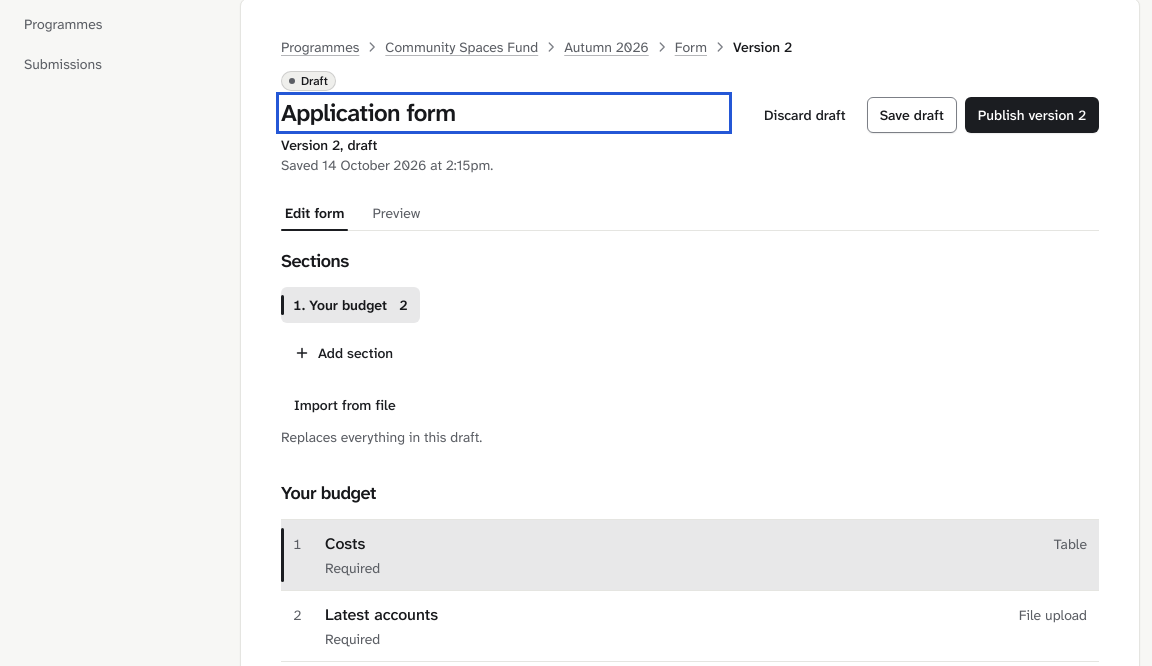
Test: the preview of a table and a file question › shows the table as applicants fill it in, with the fewest rows to start, its own name for a row and a total
Expected: the heading "Application form" is shown, [281,97,455,129]
Expected: the text "Version 2, draft" is shown, [281,136,377,154]
Click the tab "Preview".
click(396, 213)  # box [368,195,424,231]
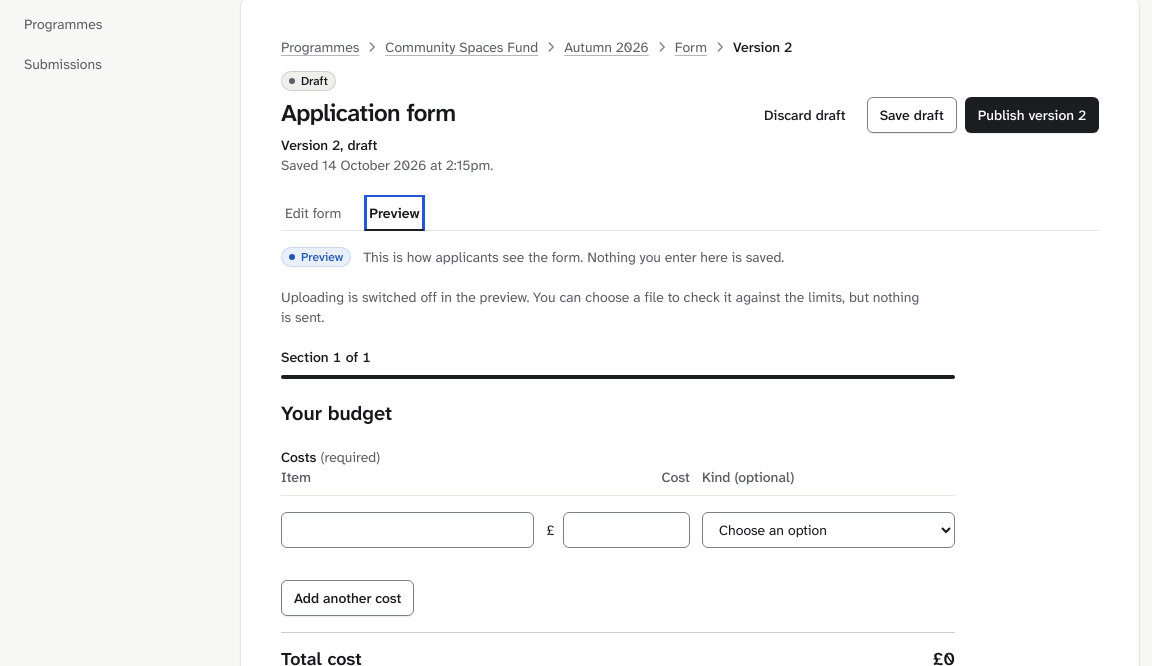
Expected: the button "Add another cost" is shown, [281,580,414,616]
Type "1200" into the 2nd field named "Cost".
click(626, 530); type("1200")  # box [562,512,690,548]
(page scrolled)
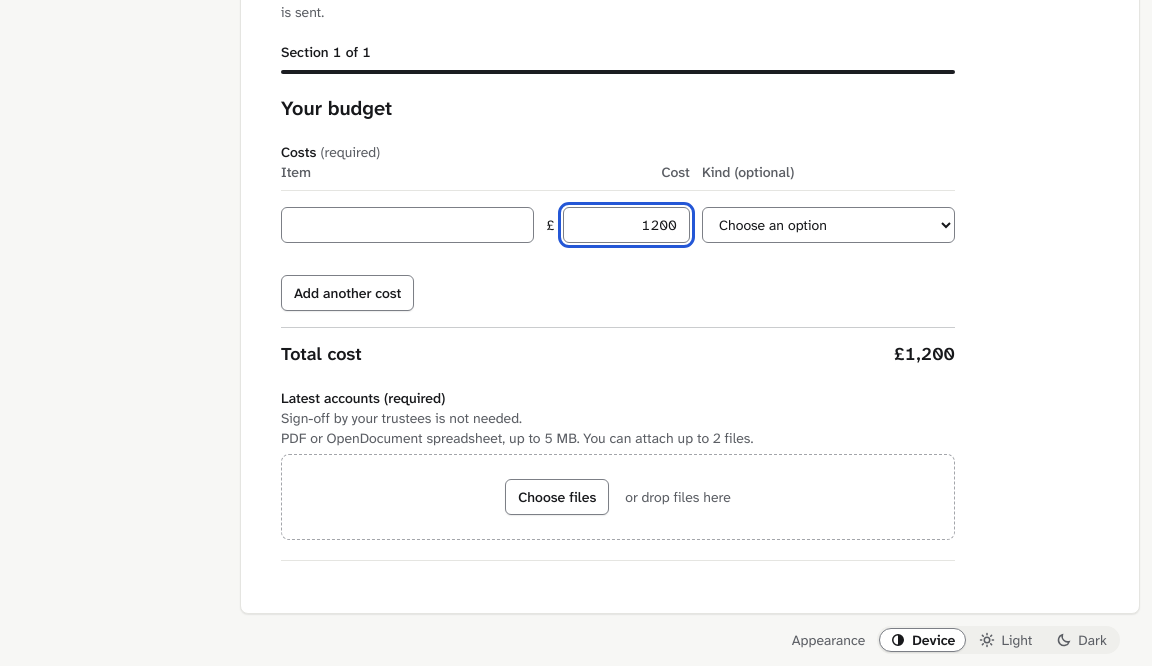
Expected: the text "£1,200" is shown, [894,340,955,368]
